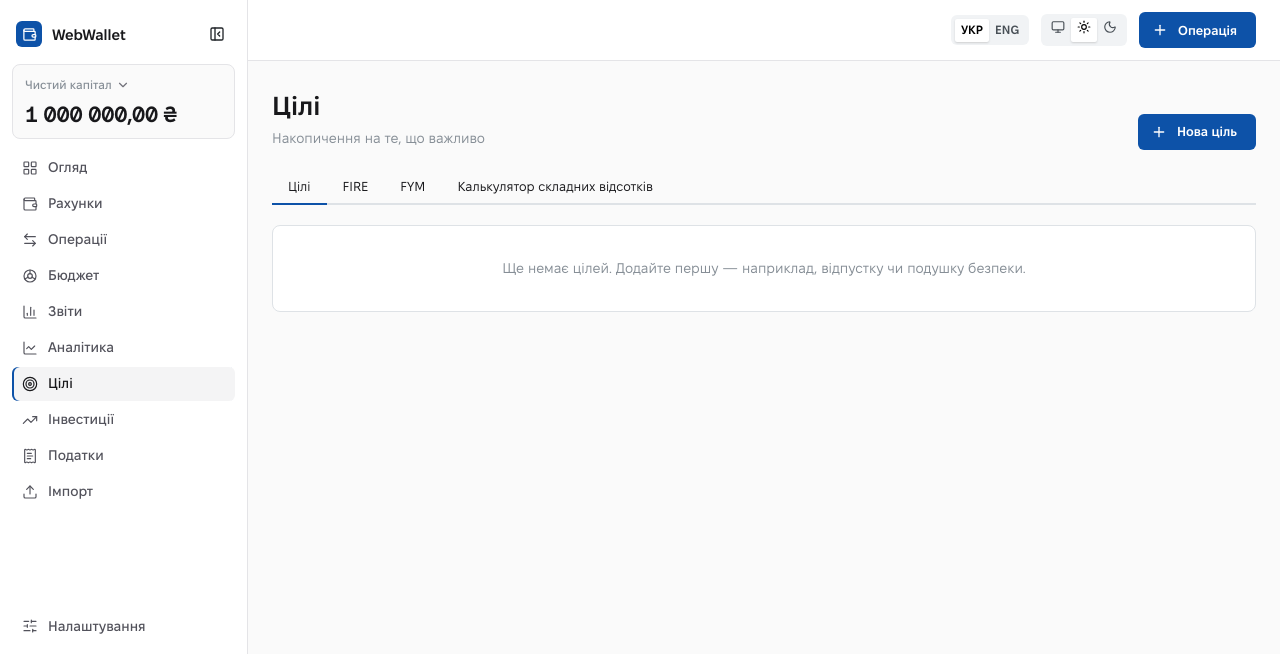
Test: switches the tabs of the goals page in the URL
Expected: the button "Нова ціль" is shown, [1138, 114, 1256, 150]
Click the tab "FIRE": [355, 187] box [326, 170, 384, 205]
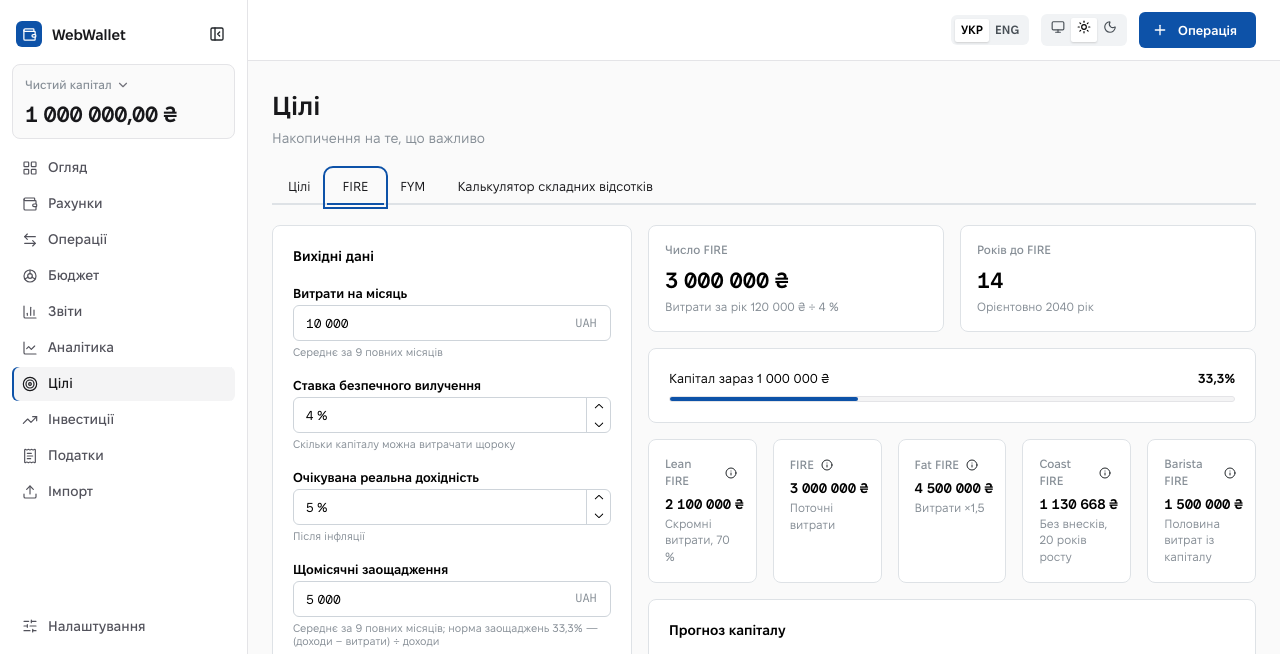
Result: the button "Нова ціль" is gone
